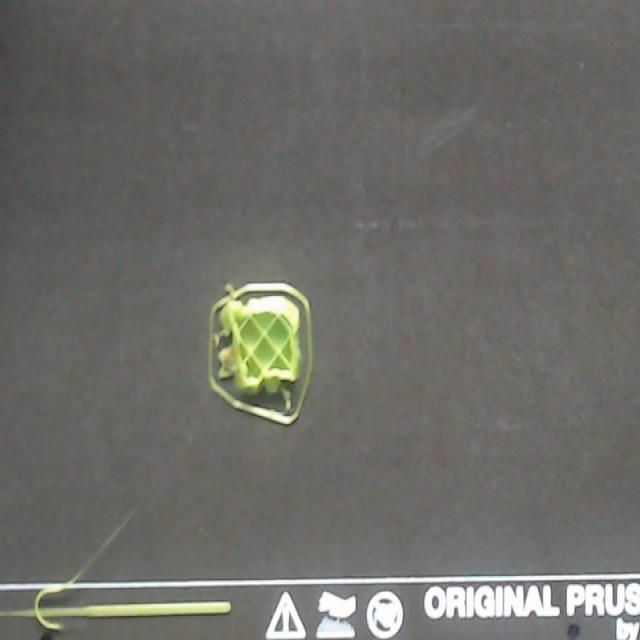mistake: (213, 329, 234, 351), (283, 388, 291, 411)
